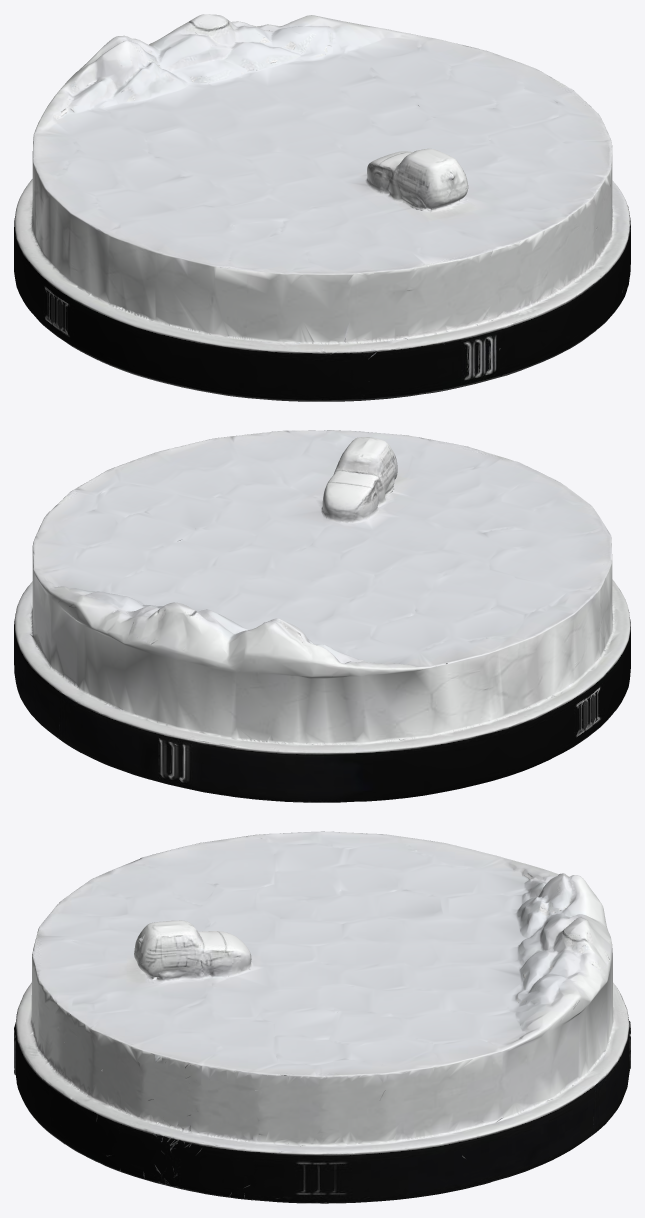
Rendered from salar_uyuni.glb.
3 renders of one model, top to bottom at view 1: azimuth 30°, elevation 25°; view 2: azimuth 150°, elevation 25°; view 3: azimuth 270°, elevation 25°, orthographic.
Visible parts, largest first — view 1: Mesh_0; view 2: Mesh_0; view 3: Mesh_0.
Boxes of the visible parts, x1,y1,x2,y2 form: Mesh_0: (14,14,630,401); Mesh_0: (14,430,630,802); Mesh_0: (14,831,630,1203).
Size of the model in its own units: 1.91 by 0.5677 by 1.91.
Materials: 1 (1 with a texture image).
